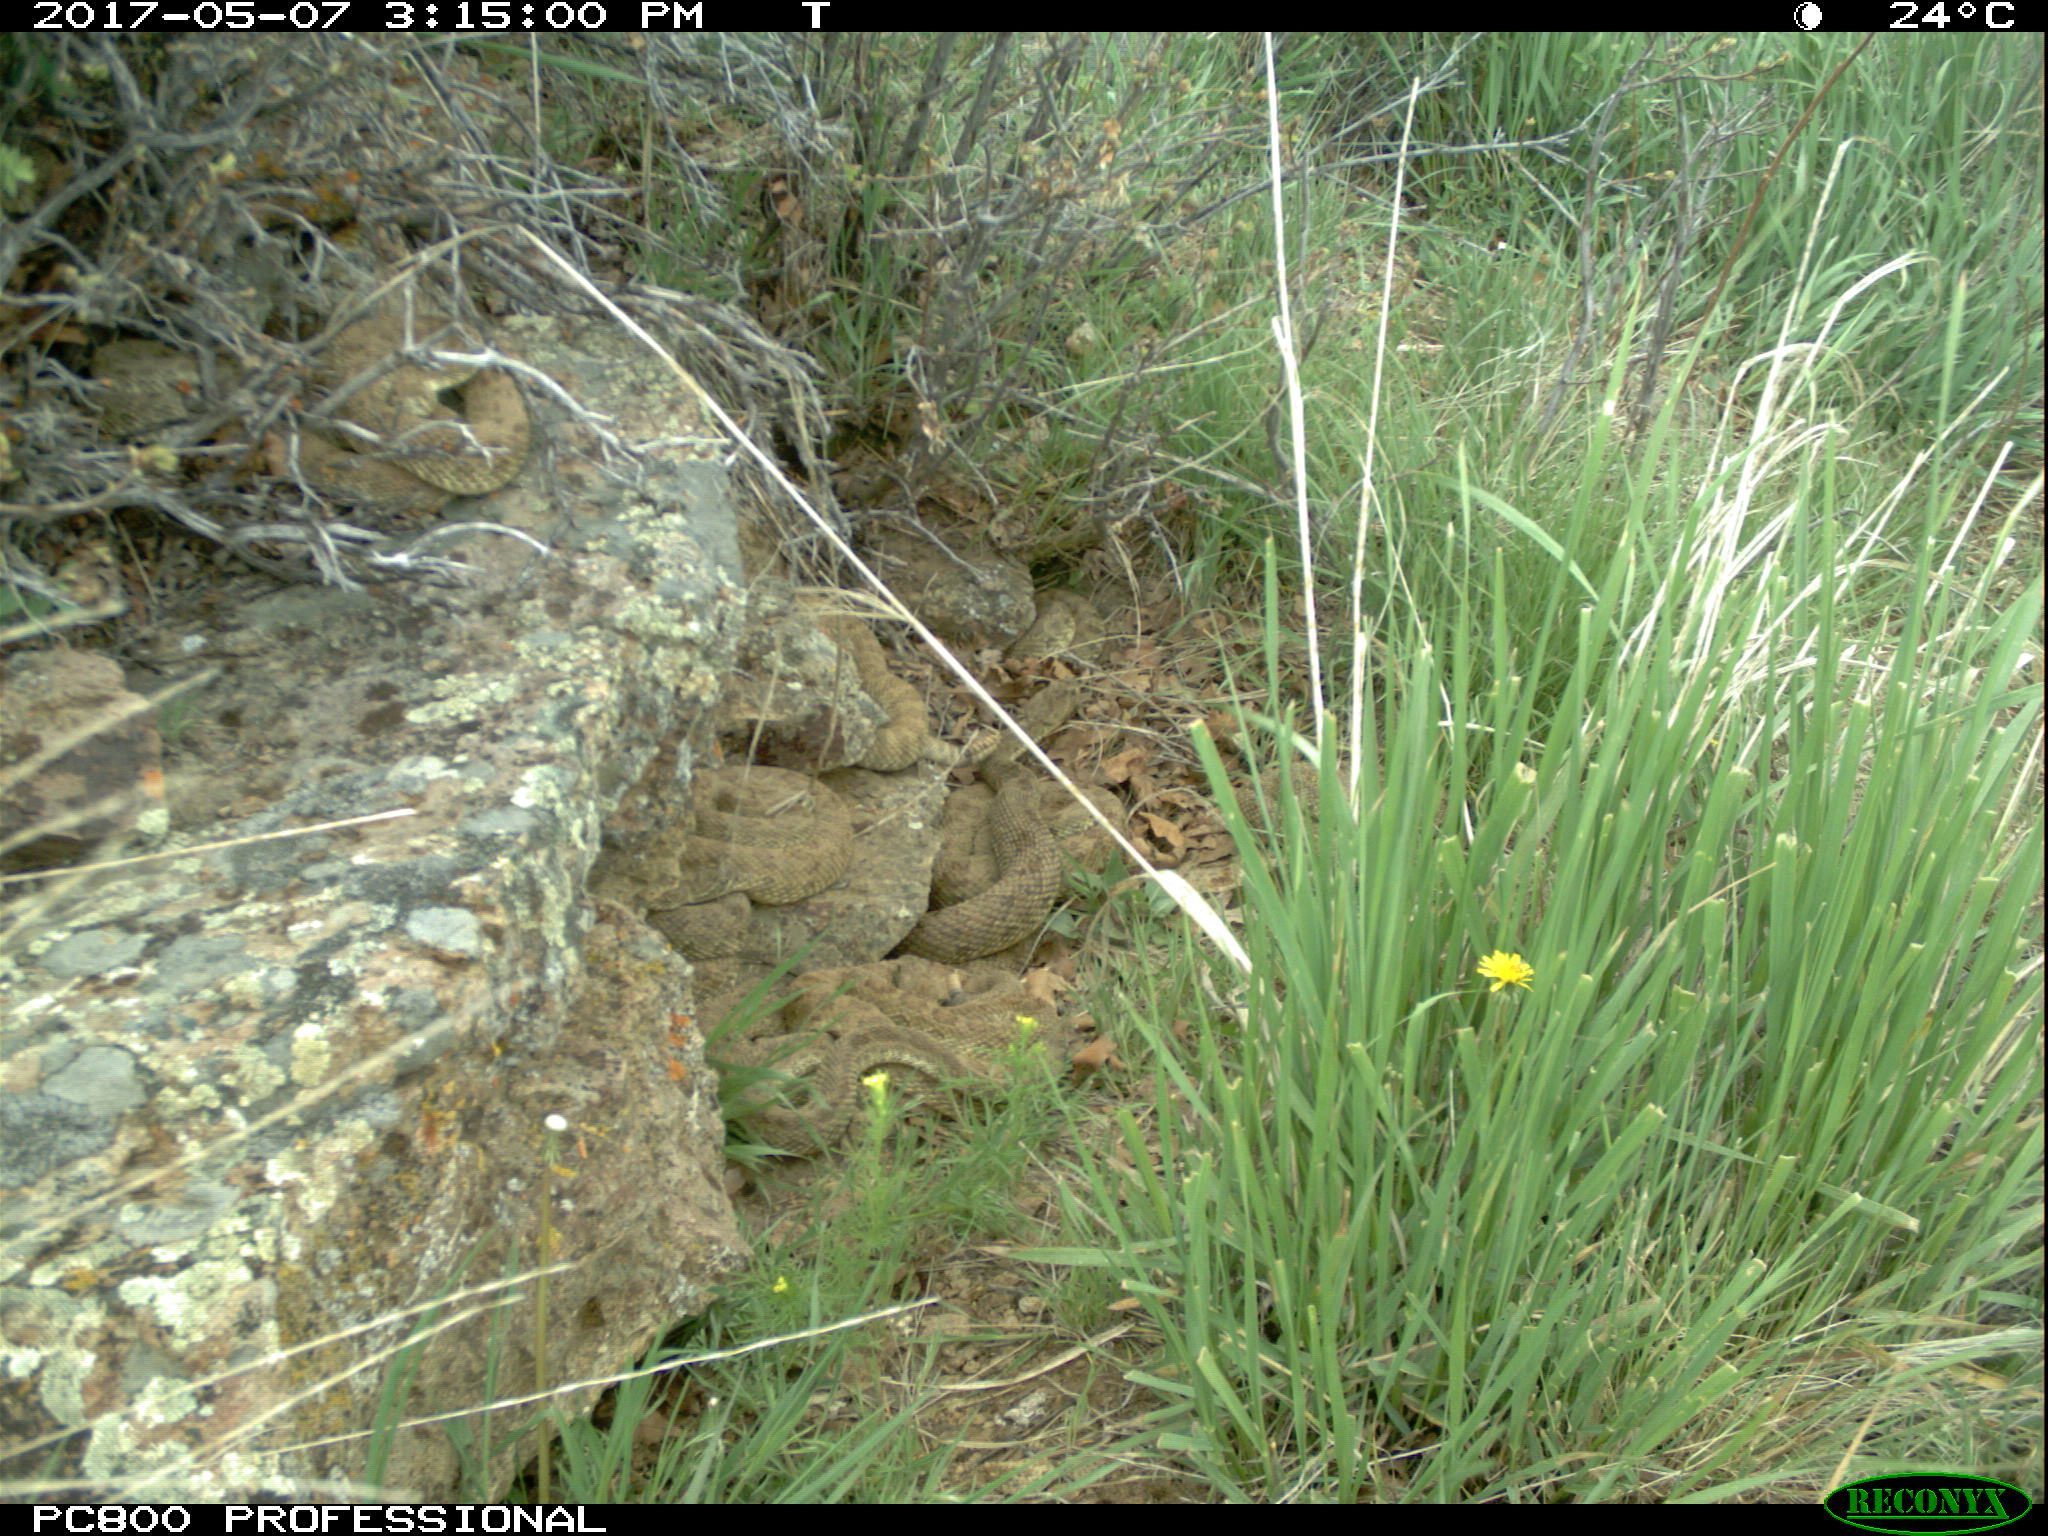snake: (705, 957, 1066, 1165), (914, 663, 1126, 958), (261, 310, 543, 511), (651, 757, 863, 970), (826, 611, 937, 787), (998, 576, 1126, 676)
